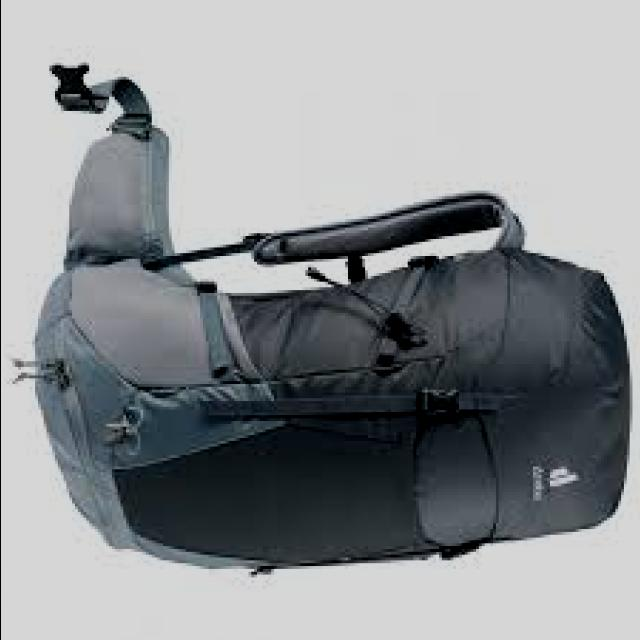backpack: (18, 64, 635, 576)
